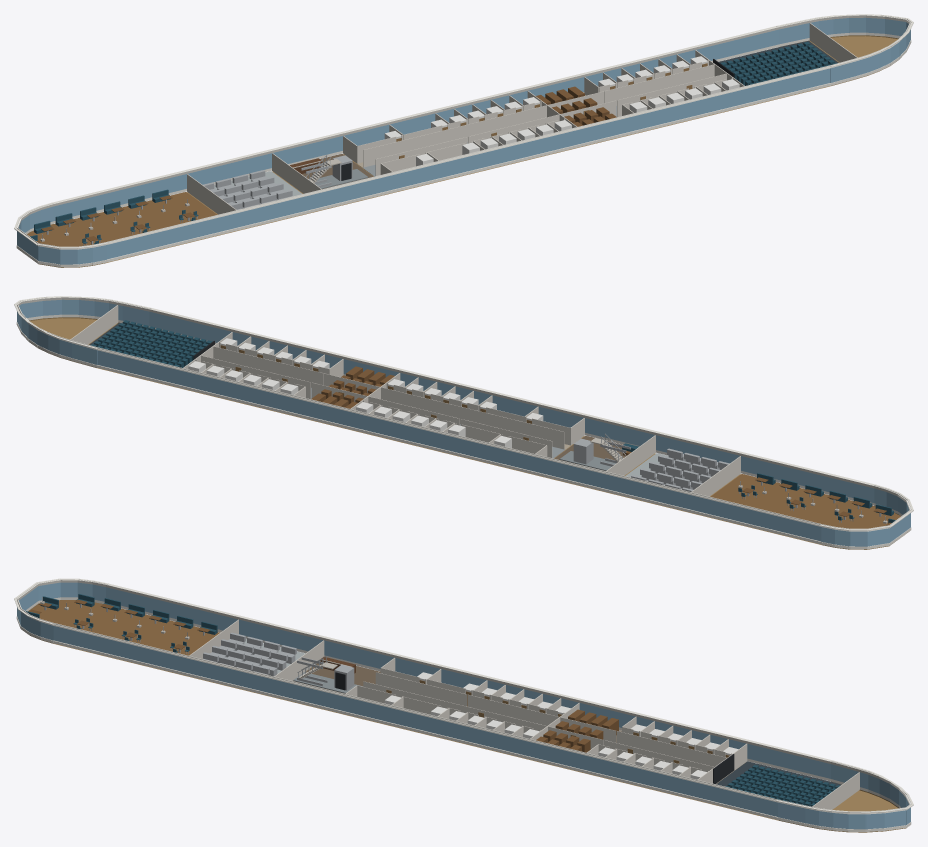
The model's file is deck_main.glb.
The picture shows the model from 3 angles, top to bottom: view 1: azimuth 30°, elevation 25°; view 2: azimuth 150°, elevation 25°; view 3: azimuth 330°, elevation 25°; orthographic projection.
Visible parts, largest first — view 1: deck_main (×9); view 2: deck_main (×9); view 3: deck_main (×12).
Boxes of the visible parts, box(x1,y1,x2,y2) form: deck_main (×9): box(14, 14, 913, 267); deck_main (×9): box(14, 296, 913, 549); deck_main (×12): box(14, 578, 913, 832).
Size of the model in its own units: 125 by 3.93 by 13.64.
